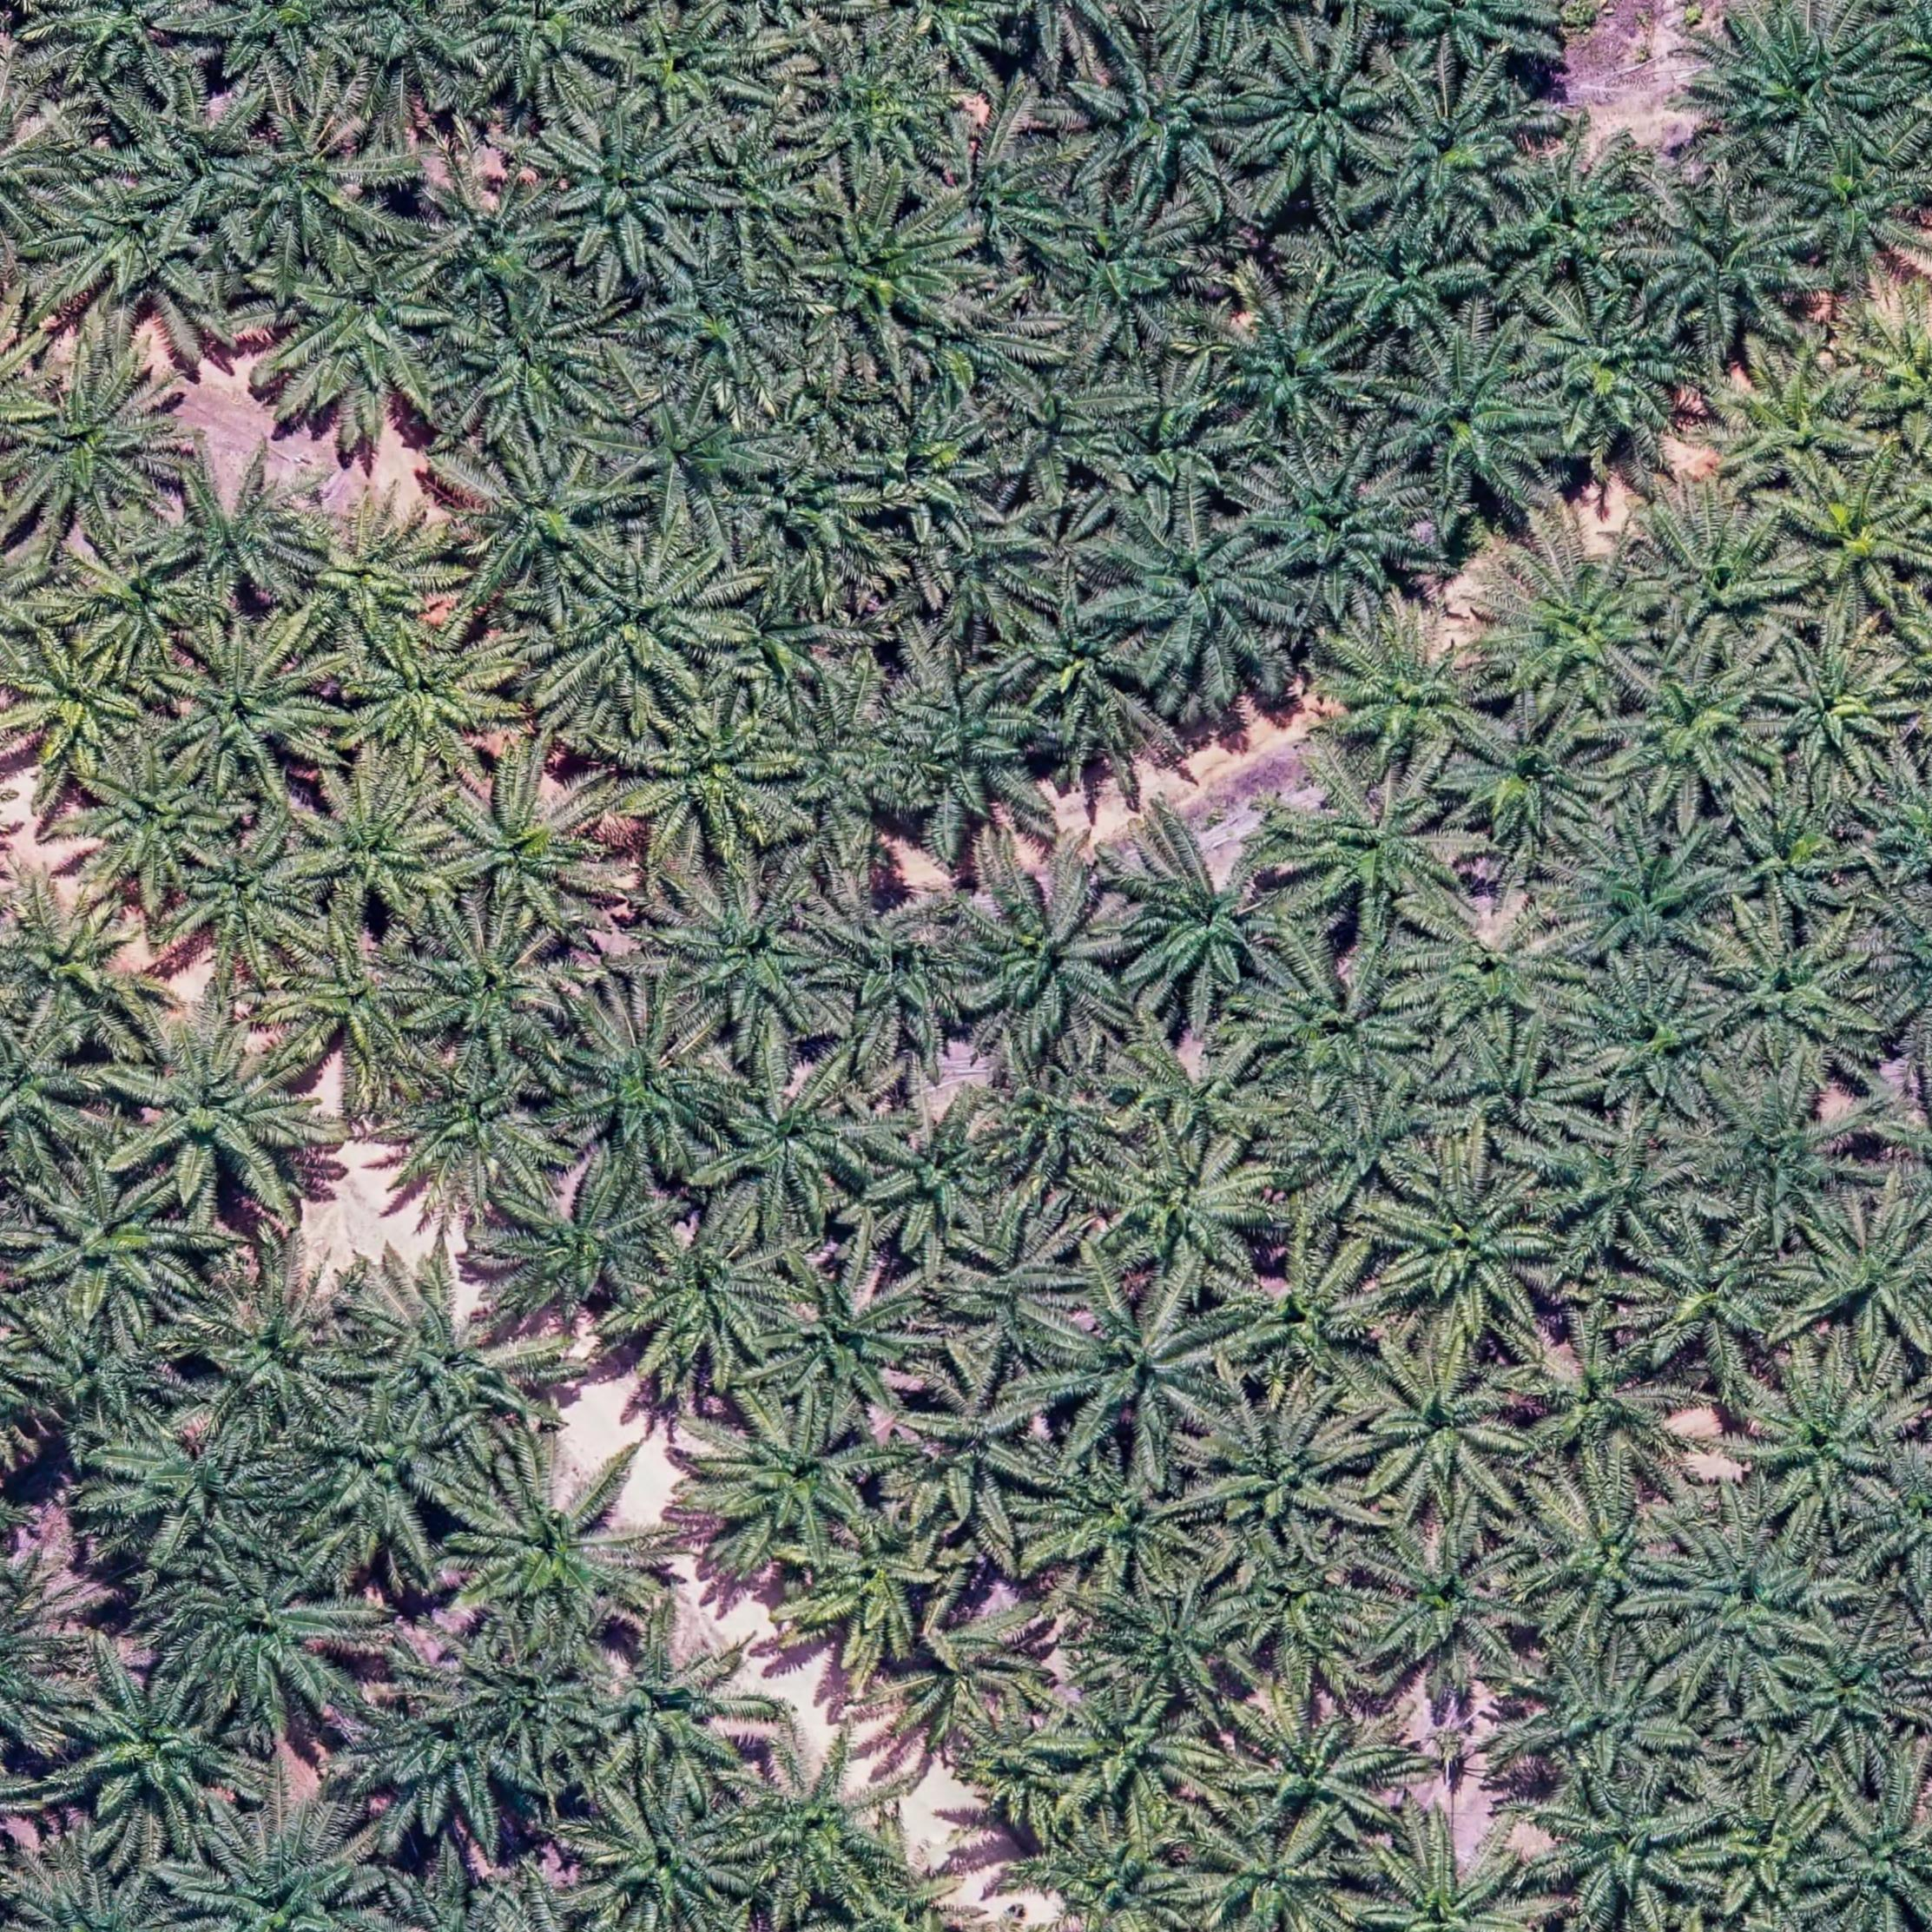palmtree: (449, 1445, 667, 1654), (111, 1005, 327, 1212), (347, 1261, 548, 1449), (161, 1545, 370, 1723), (1099, 501, 1299, 686), (260, 241, 456, 428), (547, 538, 747, 720), (950, 865, 1141, 1054), (653, 863, 846, 1049), (1046, 1281, 1240, 1465), (1343, 1332, 1532, 1520), (1651, 1514, 1836, 1702), (1376, 1157, 1566, 1341), (575, 1619, 766, 1799), (285, 1392, 483, 1566), (1348, 1518, 1537, 1698), (57, 1658, 248, 1836), (617, 1208, 805, 1389), (554, 994, 741, 1173), (1481, 543, 1670, 720), (697, 1396, 893, 1566), (761, 1258, 947, 1437), (16, 1159, 203, 1336), (96, 1415, 299, 1578), (156, 623, 340, 801), (727, 1736, 915, 1909), (373, 1047, 563, 1219), (1693, 1070, 1877, 1246), (188, 1267, 373, 1440), (784, 1506, 970, 1679), (35, 168, 228, 334), (1017, 1437, 1214, 1599), (1382, 331, 1562, 508), (1284, 763, 1472, 932), (876, 656, 1053, 835), (334, 609, 524, 775), (1707, 7, 1904, 166), (621, 692, 805, 862), (1223, 1693, 1410, 1859), (1249, 446, 1437, 612), (11, 356, 184, 534), (1734, 1361, 1914, 1532), (437, 764, 621, 932), (1608, 640, 1785, 814), (1116, 837, 1297, 1007), (1513, 1318, 1695, 1486), (1633, 180, 1817, 347), (1031, 1672, 1221, 1833), (446, 278, 626, 444), (1076, 37, 1256, 202), (545, 108, 717, 280), (807, 885, 980, 1054), (352, 1688, 538, 1845), (272, 920, 442, 1092), (890, 1368, 1058, 1541), (1523, 283, 1698, 449), (1253, 948, 1437, 1106), (1318, 617, 1499, 775), (1520, 1483, 1691, 1647), (410, 909, 584, 1072), (1217, 1231, 1391, 1394), (1035, 191, 1208, 354), (1706, 916, 1884, 1074), (1095, 1127, 1276, 1283), (1219, 1525, 1385, 1693), (708, 1063, 878, 1228), (1194, 1396, 1371, 1553), (177, 1806, 396, 1932), (458, 442, 635, 598), (993, 1806, 1208, 1932), (886, 1594, 1053, 1757), (290, 771, 462, 929), (571, 1785, 755, 1932), (0, 881, 156, 1054), (1637, 494, 1805, 653), (1235, 35, 1403, 193), (1537, 1773, 1714, 1921), (939, 1207, 1097, 1373), (1564, 966, 1732, 1122), (824, 382, 994, 536), (1552, 817, 1736, 959), (232, 110, 395, 269), (67, 743, 232, 901), (1629, 1217, 1796, 1373), (494, 1171, 667, 1320), (287, 495, 455, 648), (1507, 1645, 1695, 1782), (734, 446, 904, 596), (1086, 1566, 1261, 1711), (600, 393, 773, 538), (1412, 904, 1585, 1049), (1534, 1120, 1704, 1267), (1445, 702, 1612, 851), (897, 265, 1065, 412), (1376, 80, 1537, 232), (1759, 635, 1916, 789), (803, 189, 961, 343), (1001, 586, 1159, 738), (648, 255, 809, 403), (1217, 288, 1375, 439), (159, 458, 320, 605), (1092, 373, 1254, 518), (863, 1102, 1019, 1253), (1177, 1806, 1362, 1932), (19, 1306, 193, 1440), (172, 824, 327, 973), (1348, 1822, 1559, 1932), (794, 35, 955, 179), (9, 633, 161, 784), (1500, 149, 1658, 292), (1718, 354, 1879, 494), (1785, 465, 1932, 614), (771, 690, 922, 835), (423, 168, 577, 308), (1693, 1782, 1849, 1920), (922, 492, 1065, 640), (1718, 786, 1872, 920), (1782, 1619, 1925, 1762), (1111, 1028, 1274, 1152), (65, 527, 209, 665), (994, 364, 1138, 502), (1799, 1203, 1932, 1350), (987, 1054, 1138, 1184), (610, 7, 759, 134), (464, 1642, 612, 1769), (32, 0, 216, 101), (1286, 1099, 1442, 1217), (1334, 225, 1481, 350), (0, 1010, 104, 1185), (709, 591, 851, 720), (467, 0, 633, 108), (195, 0, 382, 96), (1444, 1028, 1592, 1146), (692, 127, 828, 251), (936, 138, 1069, 264), (1792, 159, 1932, 276), (1817, 1790, 1932, 1932)
